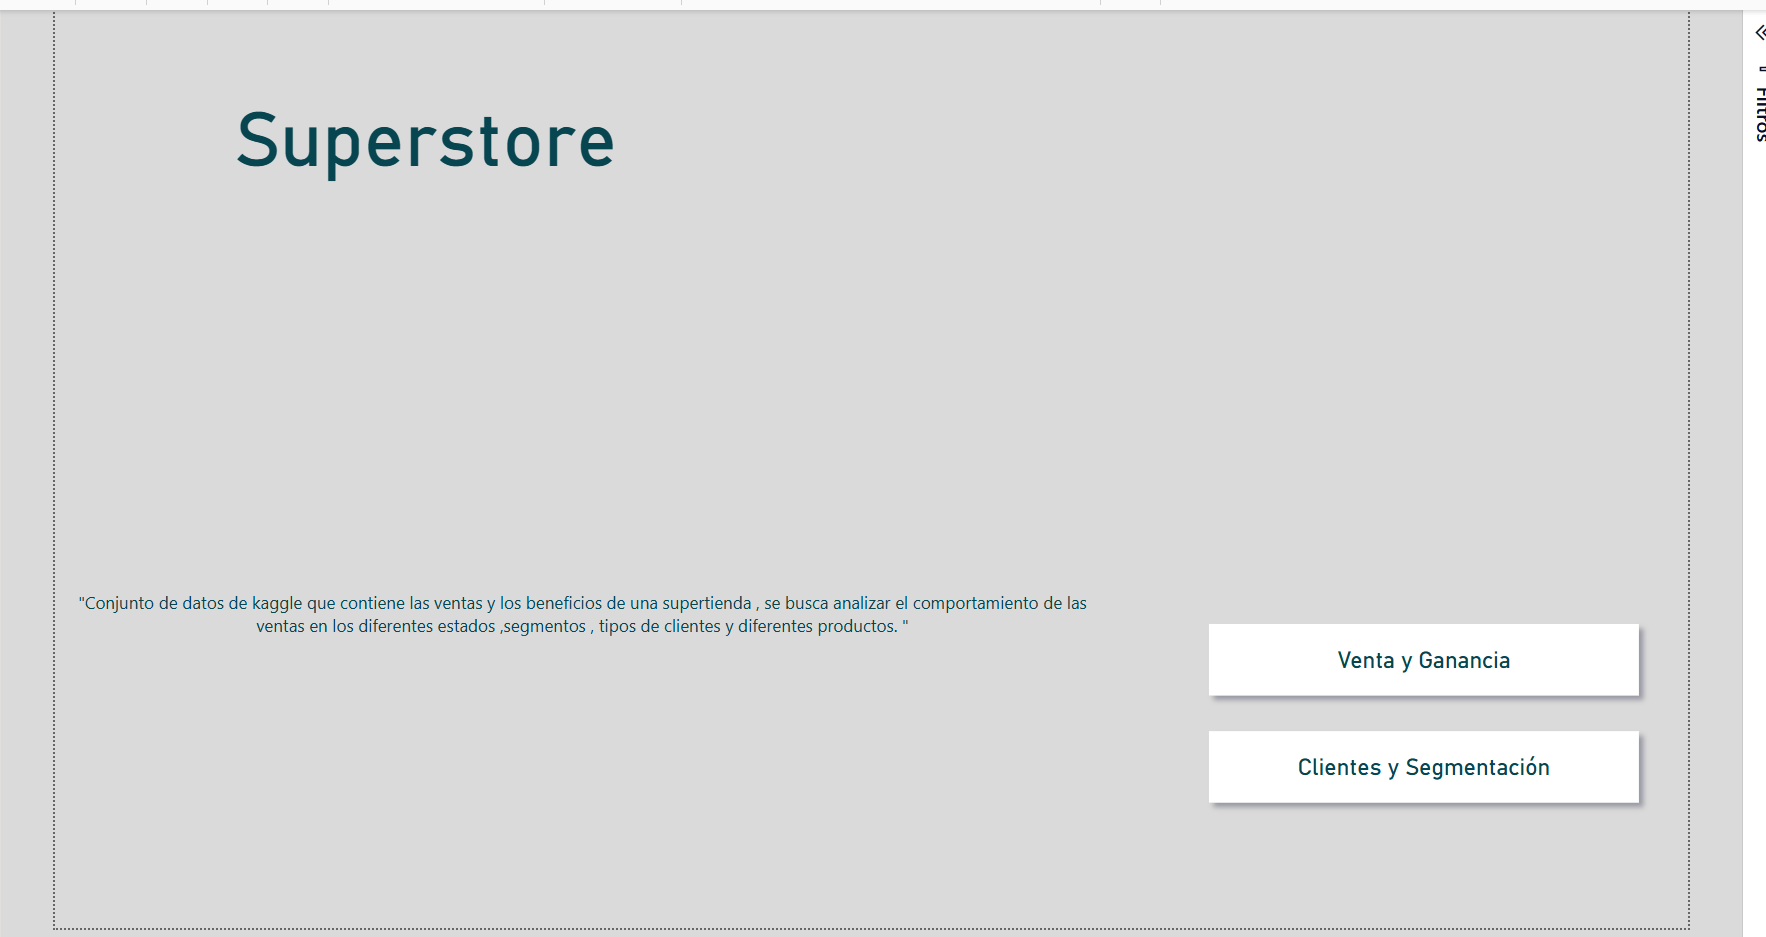

The dashboard page shown, as its layout file describes it:
{"tool":"powerbi","page":{"name":"Portada","canvas":[1280,720],"ordinal":0},"visuals":[{"type":"shape","box":[15.6,29.2,550.5,142],"z":0},{"type":"shape","box":[15.6,397.8,795.6,149.8],"z":1000},{"type":"pageNavigator","box":[895.8,472.7,356,159.5],"z":2000}]}

Visuals, with their boxes on the page's 1280x720 design canvas (x1, y1, x2, y2). These are canvas units, not pixel positions in the 1766x937 screenshot, which may show the page scaled, cropped or inside an application window:
shape: select_region(16, 29, 566, 171)
shape: select_region(16, 398, 811, 548)
pageNavigator: select_region(896, 473, 1252, 632)
